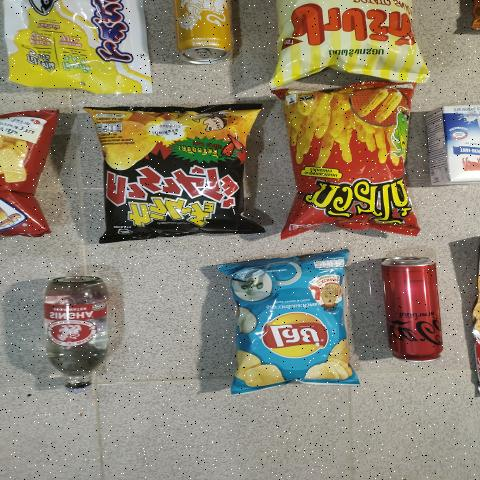coke_red: (382, 260, 444, 362)
karamujo: (91, 108, 253, 236)
lay_blue: (226, 264, 357, 383)
singha_soda: (39, 277, 117, 397)
singha_yellow: (169, 0, 242, 61)
taro_yellow: (8, 0, 152, 92)
thai_denmark: (435, 99, 480, 183)
twisco: (294, 90, 423, 236)
